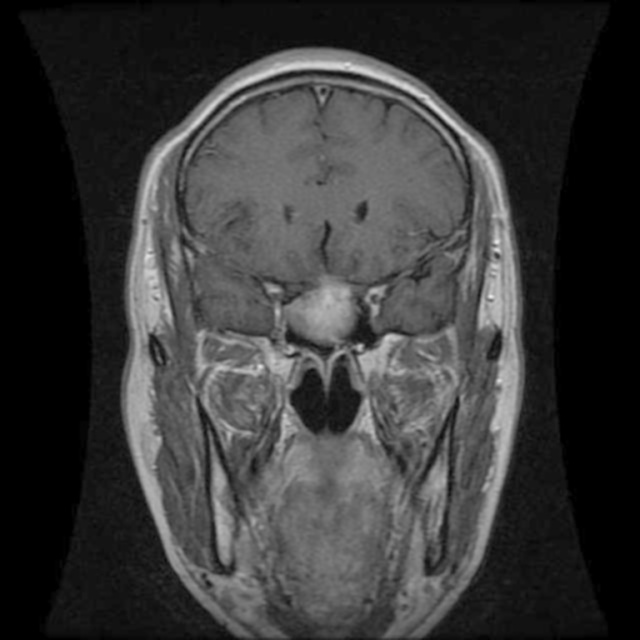no tumor: (285, 276, 351, 350)
